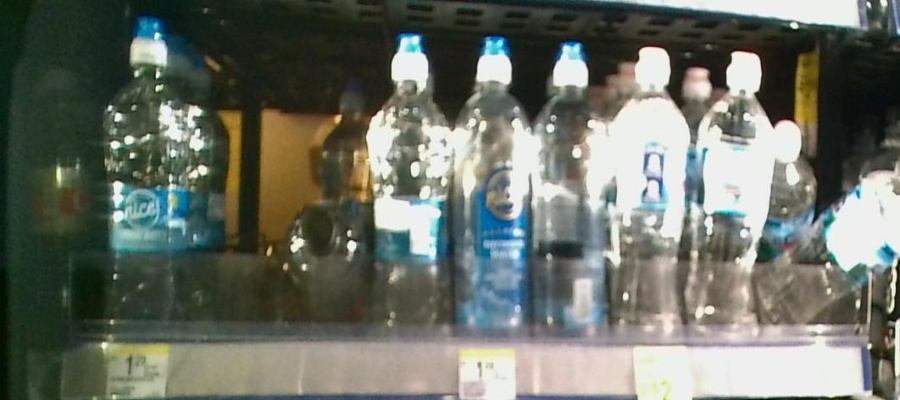bottle: (103, 13, 190, 344), (369, 32, 454, 344), (459, 31, 536, 338), (613, 42, 690, 333), (698, 46, 771, 336), (541, 36, 604, 342), (280, 188, 360, 294)
